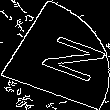N_NW: (14, 26, 96, 84)
